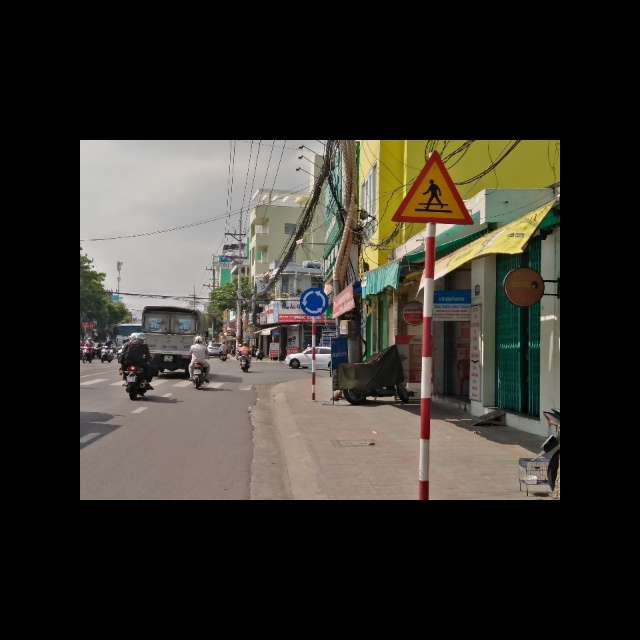Nơi giao nhau chạy theo vòng xuyến: (300, 287, 330, 317)
Đường người đi bộ sang đường: (391, 151, 478, 227)
